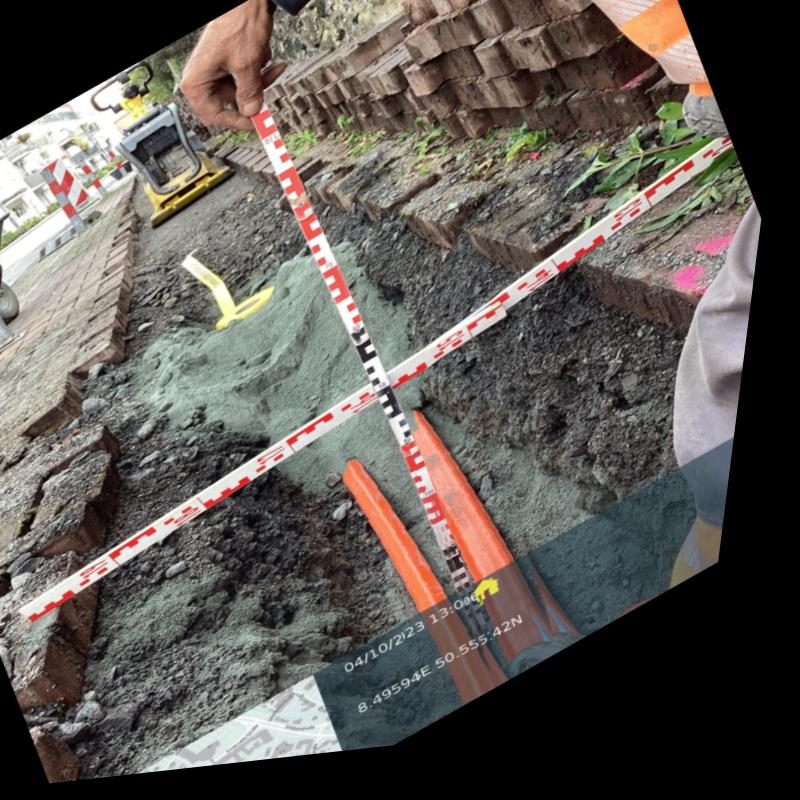Orang-Speednetrohrchen: (356, 469, 518, 716), (425, 421, 578, 671)
